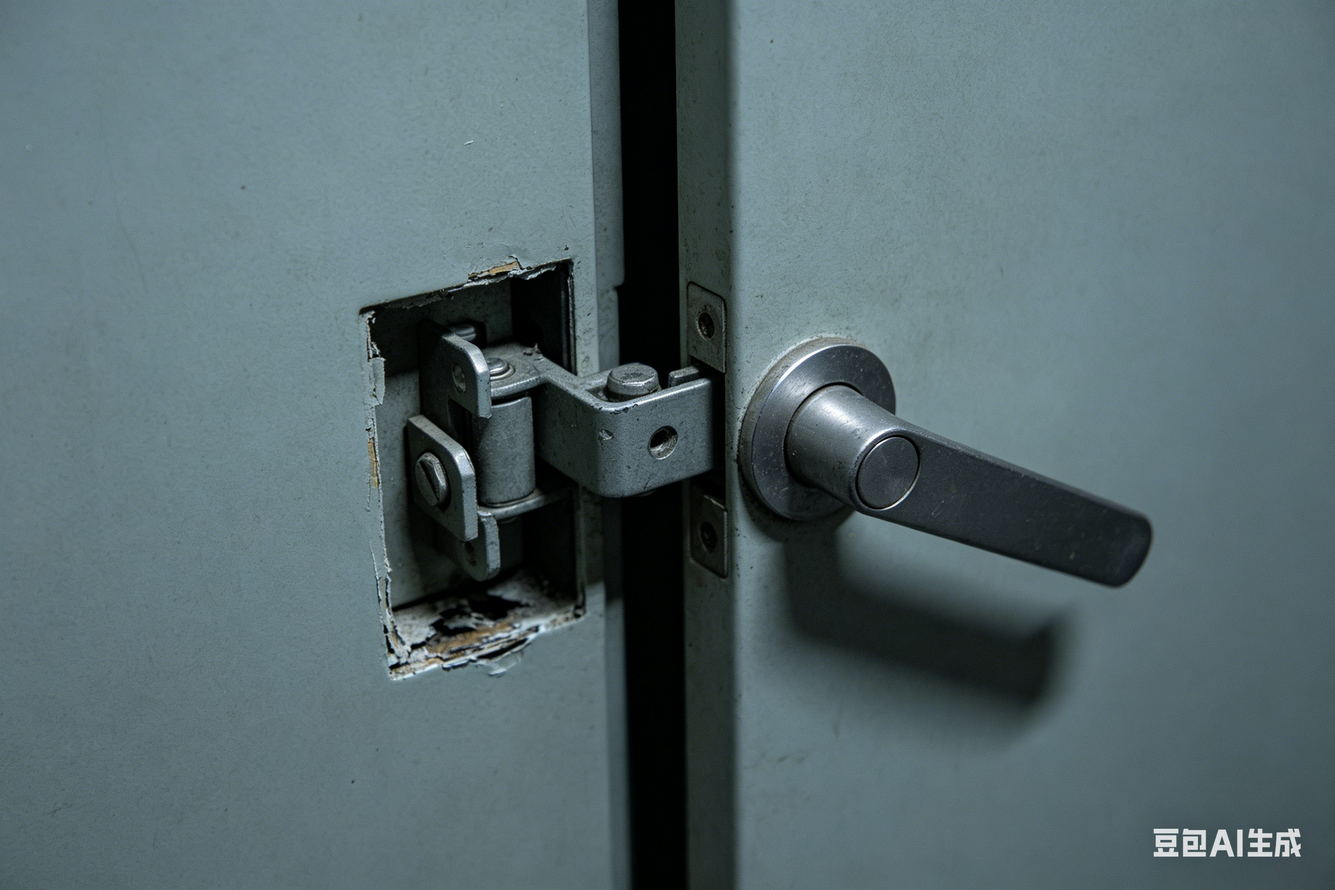BadLock: (335, 267, 584, 682)
